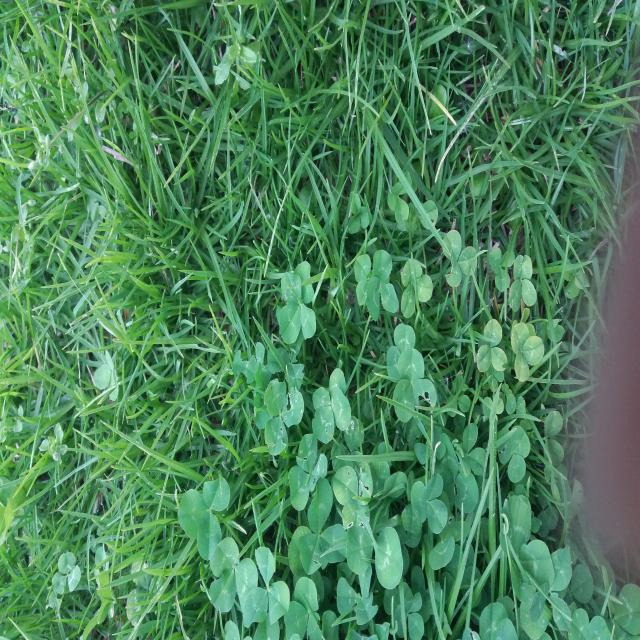Four Leaf Clover: (279, 261, 316, 344), (312, 368, 351, 444)
